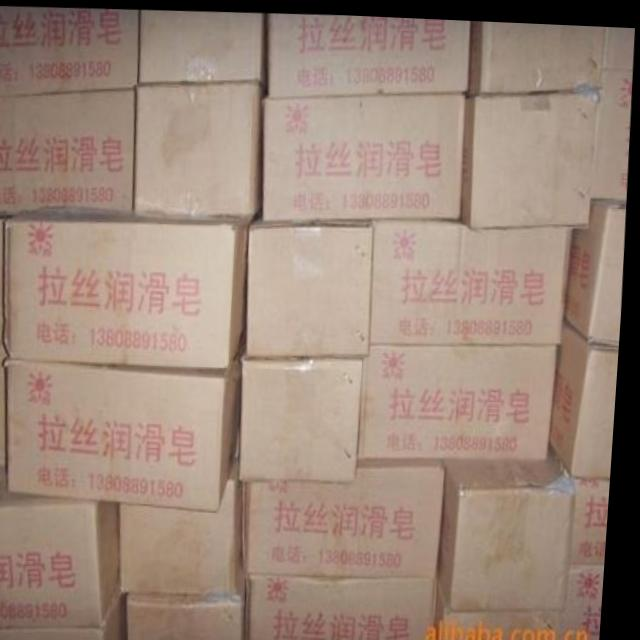box: (6, 331, 246, 512), (7, 217, 256, 365), (264, 89, 467, 220), (372, 215, 576, 340), (251, 456, 450, 575), (363, 340, 563, 458), (445, 442, 580, 607), (464, 84, 602, 224), (124, 451, 251, 594), (134, 80, 264, 216), (0, 88, 135, 218), (251, 215, 376, 355), (0, 494, 128, 629), (268, 10, 471, 94), (244, 348, 368, 480), (252, 570, 445, 640), (0, 6, 139, 97), (553, 314, 623, 474), (469, 16, 605, 89), (139, 8, 266, 85), (569, 190, 628, 341), (441, 574, 573, 640), (135, 570, 253, 640), (0, 590, 134, 640), (593, 66, 633, 194), (576, 472, 616, 561), (571, 559, 612, 640), (0, 344, 14, 500), (603, 21, 633, 66), (0, 217, 7, 343)
